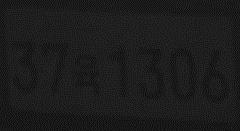0: (166, 46, 197, 108)
1: (109, 42, 133, 102)
3: (135, 46, 164, 108), (7, 38, 37, 90)
6: (199, 44, 235, 110)
7: (38, 39, 67, 94)
육: (70, 50, 102, 99)
